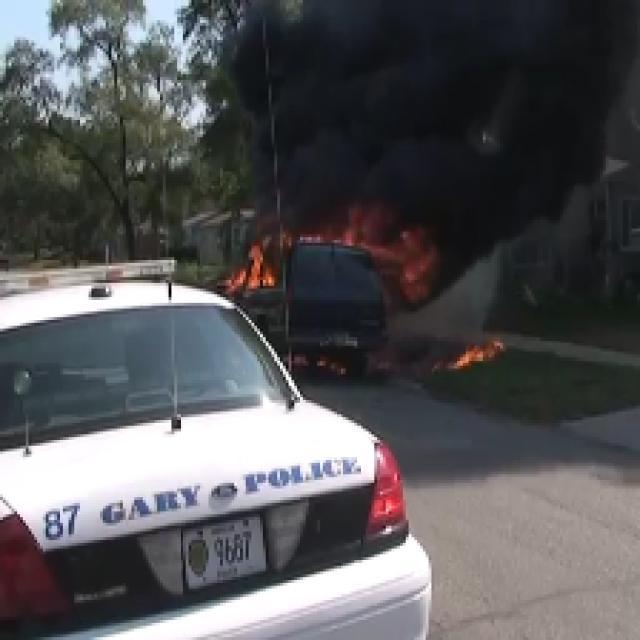Fire: (322, 226, 440, 280), (245, 250, 275, 296)
Smoke: (250, 12, 574, 220)
